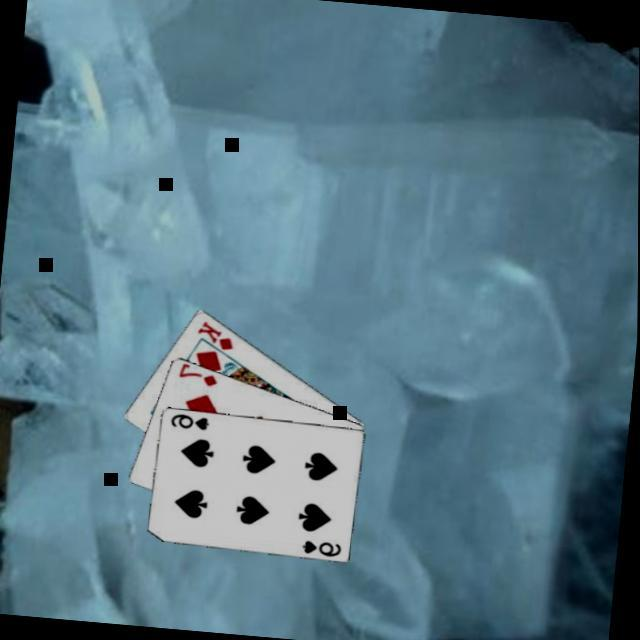6S: (166, 406, 212, 431), (299, 534, 343, 557)
7D: (174, 359, 220, 387)
KD: (192, 314, 238, 350)
